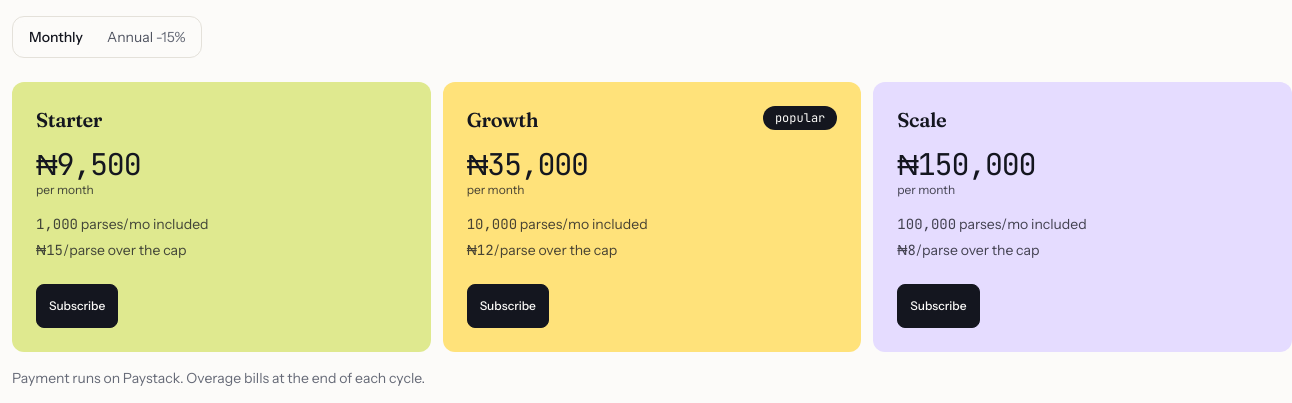
it: BillingClient › shows annual prices after toggling to Annual
Click the radio button labelled "Annual -15%" at (146, 37), box left=95, top=21, right=197, bottom=53
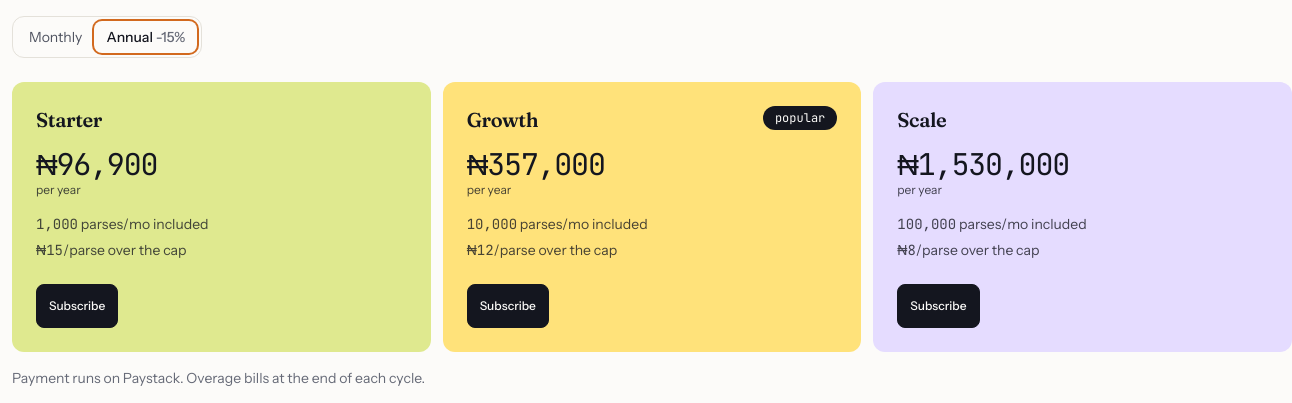
Now the text "₦96,900" is shown, box left=36, top=144, right=157, bottom=184
Now the text "₦9,500" is gone
